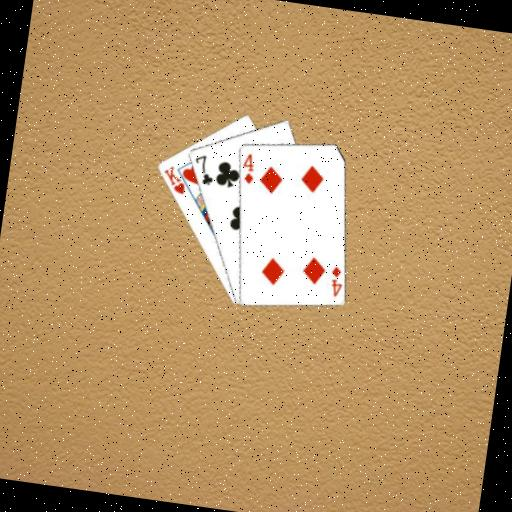4D: (238, 149, 258, 186), (326, 262, 346, 299)
7C: (189, 151, 218, 188)
KH: (157, 162, 189, 197)
